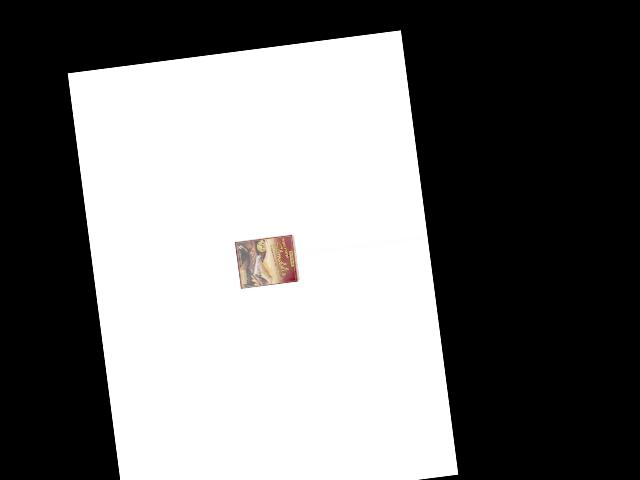chocolate: (234, 234, 300, 288)
